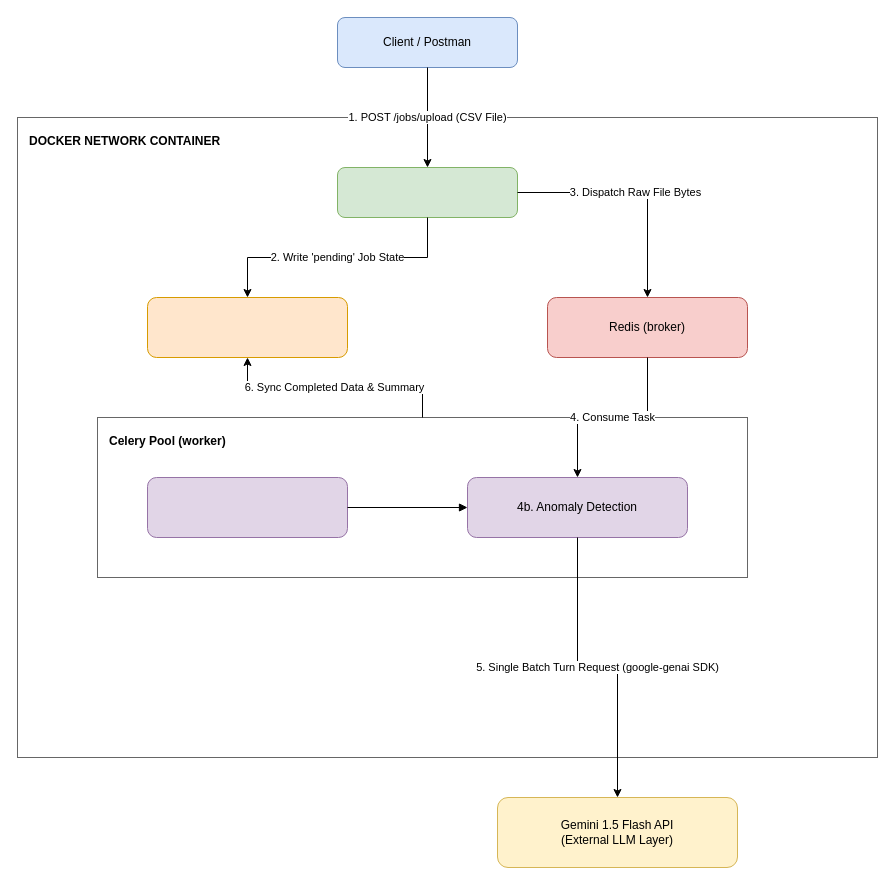
Some shapes in this 895 by 885 pixel diagram are drawn without their labels. The shapes that lost their labels are listed below. From the top down, each one's centre as x and y in pixels, then its label:
point 427,192: FastAPI (web)
point 247,327: PostgreSQL (db)
point 247,507: 4a. Data Cleaner
